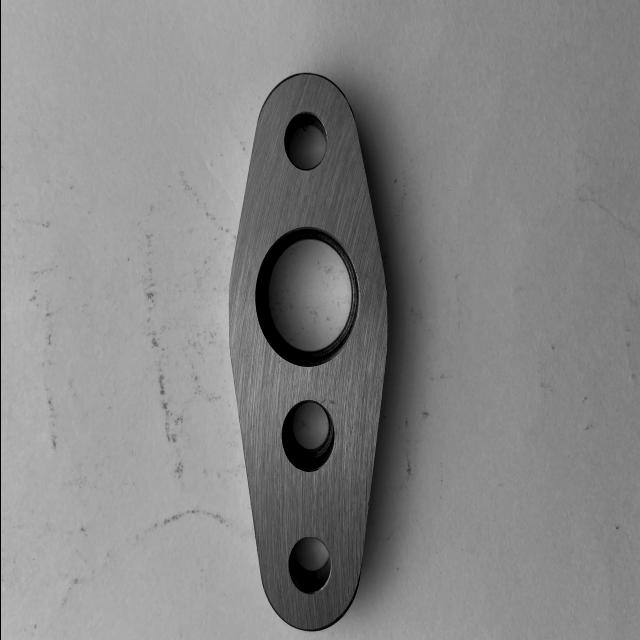lines: (320, 394, 338, 406)
